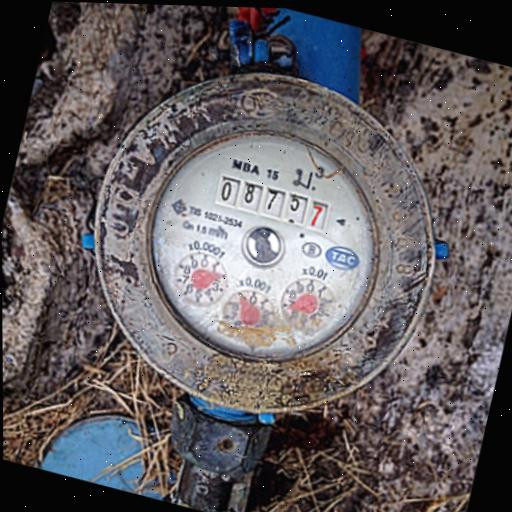0: (217, 177, 240, 205)
5: (285, 195, 309, 223)
7: (308, 201, 329, 229), (263, 187, 283, 215)
8: (240, 184, 264, 211)
border_water_meter_number: (208, 170, 337, 236)
